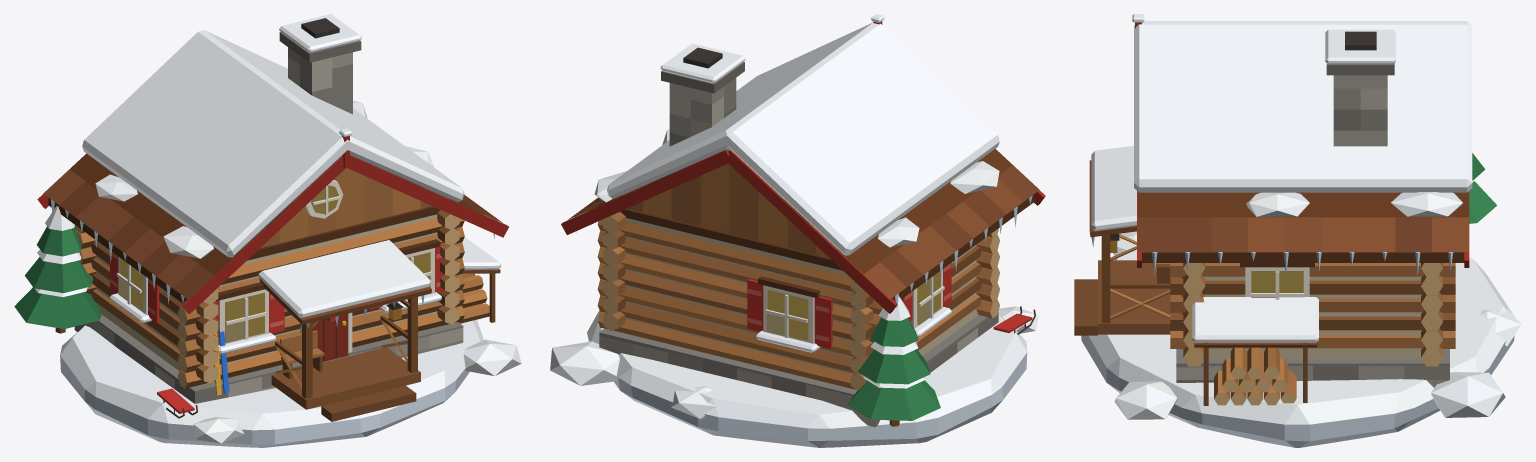
Rendered from cabin.glb.
The picture shows the model from 3 angles, left to right: view 1: azimuth 30°, elevation 25°; view 2: azimuth 150°, elevation 25°; view 3: azimuth 270°, elevation 25°; orthographic projection. The views are drawn at different scales.
Parts seen in each view (by area): view 1: cabin; view 2: cabin; view 3: cabin.
Boxes of the visible parts, bbox=[...] form: cabin: bbox=[14, 14, 521, 447]; cabin: bbox=[550, 14, 1045, 447]; cabin: bbox=[1074, 14, 1521, 447].
Size of the model in its own units: 12.61 by 9.7 by 11.3.
2 materials, 2 textured.
